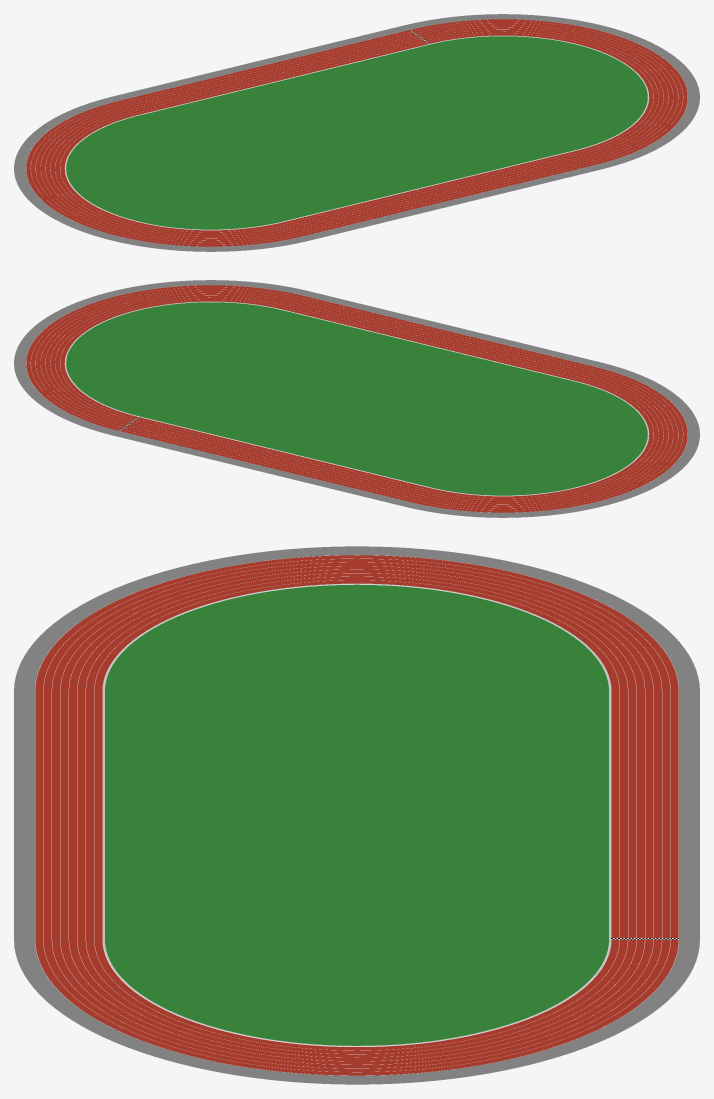
The model's file is pista_atletismo.obj.
3 renders of one model, top to bottom at view 1: azimuth 30°, elevation 25°; view 2: azimuth 150°, elevation 25°; view 3: azimuth 270°, elevation 25°, orthographic. The views are drawn at different scales.
Parts seen in each view (by area): view 1: gramado, pista, area_externa, linhas_brancas, meio_fio; view 2: gramado, pista, area_externa, linhas_brancas, meio_fio; view 3: gramado, pista, area_externa, linhas_brancas, meio_fio.
Part boxes in pixels (x1,y1,x2,y2): gramado: [66, 36, 647, 229]; pista: [26, 19, 687, 246]; area_externa: [14, 14, 699, 251]; linhas_brancas: [26, 19, 687, 246]; meio_fio: [65, 35, 648, 229]; gramado: [66, 302, 647, 495]; pista: [26, 285, 687, 512]; area_externa: [14, 280, 699, 517]; linhas_brancas: [26, 285, 687, 512]; meio_fio: [65, 301, 648, 495]; gramado: [105, 584, 608, 1045]; pista: [35, 555, 678, 1075]; area_externa: [14, 546, 699, 1084]; linhas_brancas: [35, 555, 678, 1075]; meio_fio: [103, 583, 610, 1046].
Bounding box in the file's own units: 183 × 0.05 × 98.52.
